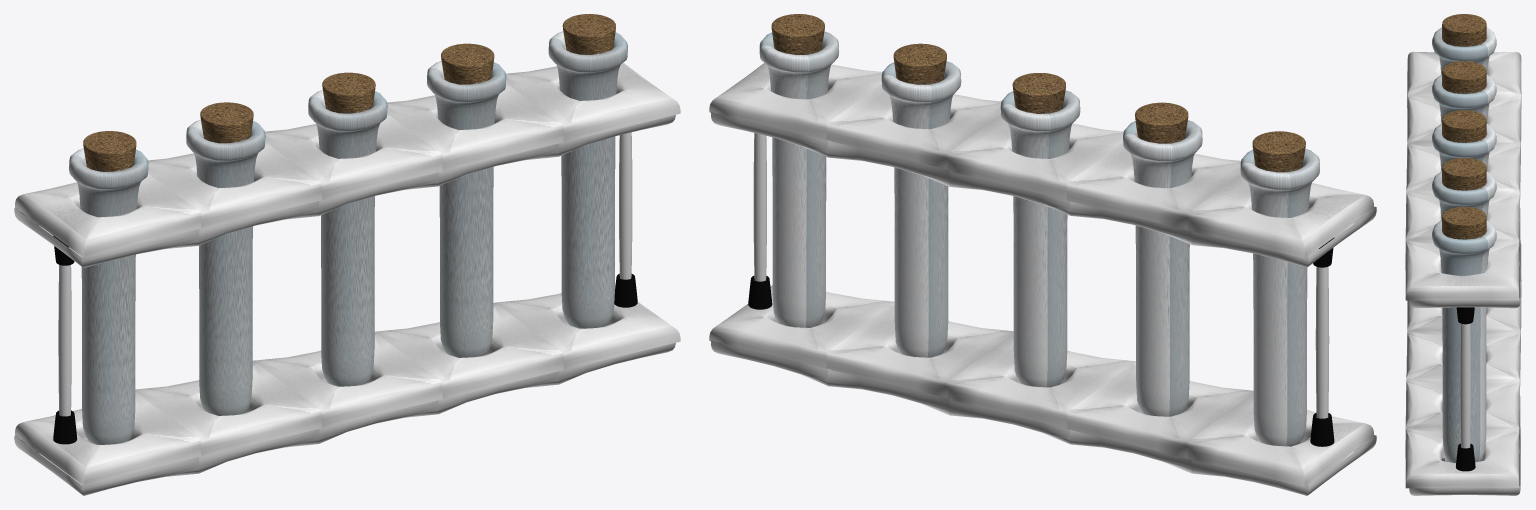
3 views of the same model, side by side, from view 1: azimuth 30°, elevation 25°; view 2: azimuth 150°, elevation 25°; view 3: azimuth 270°, elevation 25° (orthographic). The views are drawn at different scales.
Visible parts, largest first — view 1: polySurface14; view 2: polySurface14; view 3: polySurface14.
Boxes of the visible parts, box(x1,y1,x2,y2) form: polySurface14: box(14, 14, 680, 495); polySurface14: box(709, 14, 1376, 495); polySurface14: box(1405, 14, 1521, 495).
Bounding box in the file's own units: 11.03 × 5.64 × 2.25.
Materials: 19 (12 with a texture image).
